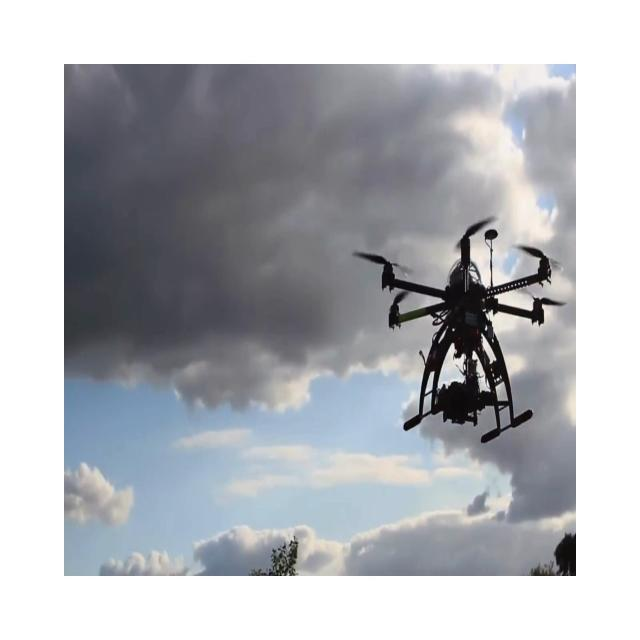drone: (351, 214, 567, 444)
